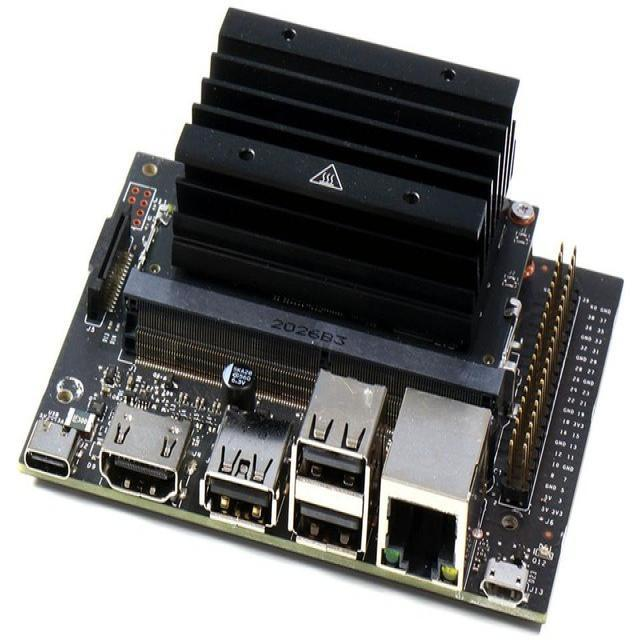Jetson Nano: (17, 7, 625, 620)
